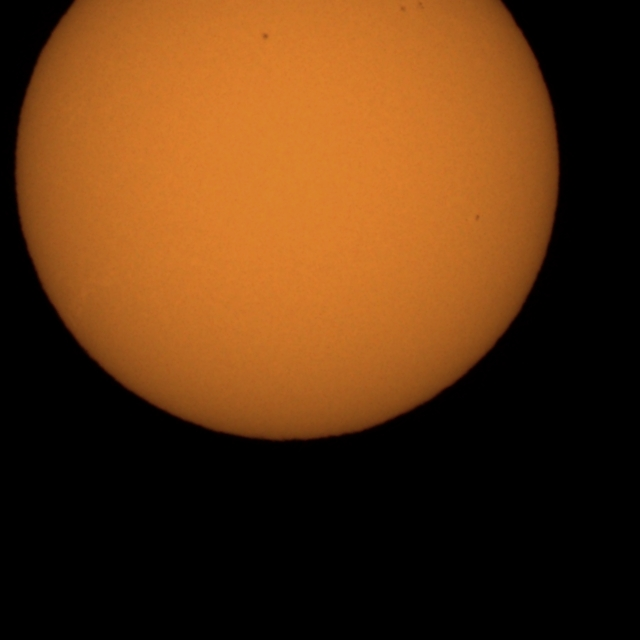sunspot: (399, 0, 426, 13), (398, 4, 408, 13), (261, 32, 270, 42), (474, 212, 481, 222), (418, 1, 425, 10)
